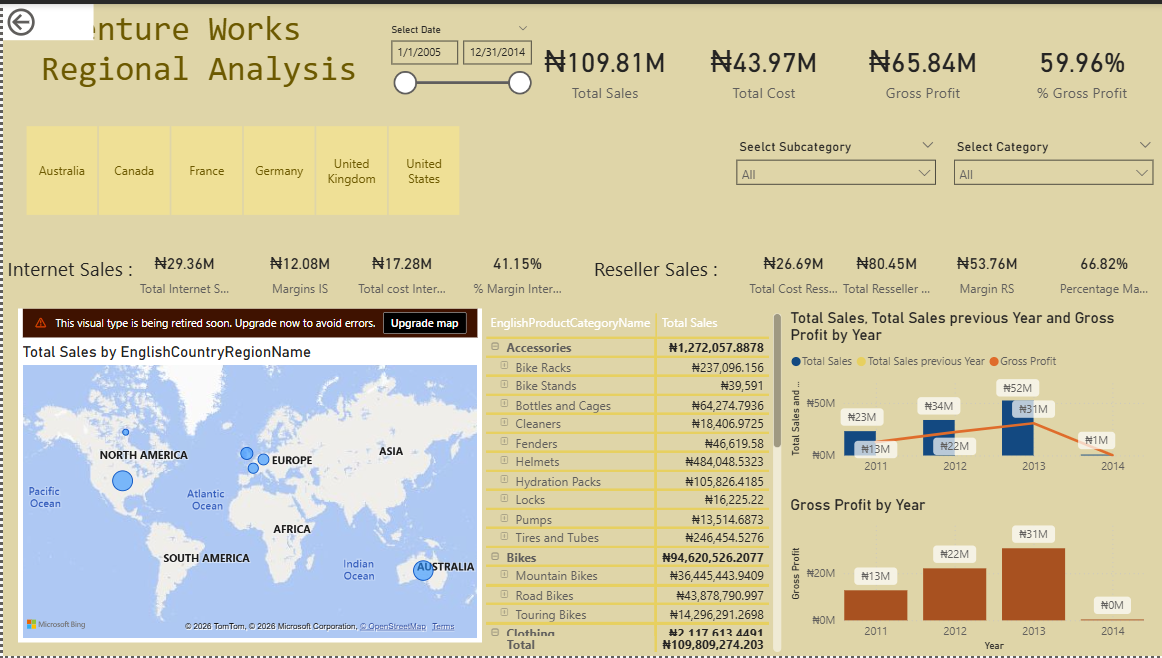

Layout of this report page (visuals, bound fields, positions):
{"tool":"powerbi","page":{"name":"Regional Analysis ","canvas":[1280,720],"ordinal":0},"visuals":[{"type":"textbox","box":[16,0,448,128],"z":0},{"type":"card","fields":{"Values":["All Measures.Total Sales"]},"box":[576,16,176,112],"z":1000},{"type":"card","fields":{"Values":["All Measures.Total Cost"]},"box":[752,16,176,112],"z":2000},{"type":"card","fields":{"Values":["All Measures.Gross Profit"]},"box":[928,16,176,112],"z":3000},{"type":"card","fields":{"Values":["All Measures.% Gross Profit"]},"box":[1104,16,176,112],"z":4000},{"type":"slicer","fields":{"Values":["DimDate.FullDateAlternateKey"]},"box":[416,16,176,112],"z":5000},{"type":"slicer","fields":{"Values":["DimGeography.EnglishCountryRegionName"]},"box":[0,128,528,112],"z":6000},{"type":"actionButton","box":[0,0,100,40],"z":7000},{"type":"slicer","fields":{"Values":["DimProductSubcategory.EnglishProductSubcategoryName"]},"box":[800,144,240,64],"z":8000},{"type":"slicer","fields":{"Values":["DimProductCategory.EnglishProductCategoryName"]},"box":[1040,144,240,64],"z":9000},{"type":"textbox","box":[0,272,160,48],"z":10000},{"type":"card","fields":{"Values":["All Measures.Total Internet Sales Current Year"]},"box":[144,240,112,112],"z":11000},{"type":"card","fields":{"Values":["All Measures.Margins IS"]},"box":[272,240,112,112],"z":12000},{"type":"card","fields":{"Values":["All Measures.Total cost Internet Sales"]},"box":[384,240,112,112],"z":13000},{"type":"card","fields":{"Values":["All Measures.% Margin Internet Sales"]},"box":[512,240,112,112],"z":14000},{"type":"textbox","box":[647.1,271.8,160,48],"z":15000},{"type":"card","fields":{"Values":["All Measures.Total Cost Resseller"]},"box":[816,240,112,112],"z":16000},{"type":"card","fields":{"Values":["All Measures.Total Resseller Current Year"]},"box":[919.1,239.8,112,112],"z":17000},{"type":"card","fields":{"Values":["All Measures.Margin RS"]},"box":[1031.1,239.8,112,112],"z":18000},{"type":"card","fields":{"Values":["All Measures.Percentage Margin RS"]},"box":[1159.1,239.8,112,112],"z":19000},{"type":"map","fields":{"Category":["DimGeography.EnglishCountryRegionName","DimGeography.StateProvinceName"],"Size":["All Measures.Total Sales"]},"box":[16,336,512,368],"z":20000},{"type":"pivotTable","fields":{"Rows":["DimProductCategory.EnglishProductCategoryName","DimProductSubcategory.EnglishProductSubcategoryName","DimProduct.EnglishProductName"],"Values":["All Measures.Total Sales"]},"box":[528,336,336,384],"z":21000},{"type":"lineClusteredColumnComboChart","fields":{"Y":["All Measures.Total Sales","All Measures.Total Sales previous Year"],"Category":["DimDate.FullDateAlternateKey.Variation.Date Hierarchy.Year","DimDate.FullDateAlternateKey.Variation.Date Hierarchy.Quarter"],"Y2":["All Measures.Gross Profit"]},"box":[864,336,400,192],"z":22000},{"type":"lineClusteredColumnComboChart","fields":{"Y":["All Measures.Gross Profit"],"Category":["DimDate.FullDateAlternateKey.Variation.Date Hierarchy.Year","DimDate.FullDateAlternateKey.Variation.Date Hierarchy.Quarter","DimDate.FullDateAlternateKey.Variation.Date Hierarchy.Month","DimDate.FullDateAlternateKey.Variation.Date Hierarchy.Day"]},"box":[864,544,400,176],"z":23000}]}

Visuals, with their boxes on the page's 1280x720 design canvas (x1, y1, x2, y2). These are canvas units, not pixel positions in the 1162x658 screenshot, which may show the page scaled, cropped or inside an application window:
textbox: rect(16, 0, 464, 128)
card - All Measures.Total Sales: rect(576, 16, 752, 128)
card - All Measures.Total Cost: rect(752, 16, 928, 128)
card - All Measures.Gross Profit: rect(928, 16, 1104, 128)
card - All Measures.% Gross Profit: rect(1104, 16, 1280, 128)
slicer - DimDate.FullDateAlternateKey: rect(416, 16, 592, 128)
slicer - DimGeography.EnglishCountryRegionName: rect(0, 128, 528, 240)
actionButton: rect(0, 0, 100, 40)
slicer - DimProductSubcategory.EnglishProductSubcategoryName: rect(800, 144, 1040, 208)
slicer - DimProductCategory.EnglishProductCategoryName: rect(1040, 144, 1280, 208)
textbox: rect(0, 272, 160, 320)
card - All Measures.Total Internet Sales Current Year: rect(144, 240, 256, 352)
card - All Measures.Margins IS: rect(272, 240, 384, 352)
card - All Measures.Total cost Internet Sales: rect(384, 240, 496, 352)
card - All Measures.% Margin Internet Sales: rect(512, 240, 624, 352)
textbox: rect(647, 272, 807, 320)
card - All Measures.Total Cost Resseller: rect(816, 240, 928, 352)
card - All Measures.Total Resseller Current Year: rect(919, 240, 1031, 352)
card - All Measures.Margin RS: rect(1031, 240, 1143, 352)
card - All Measures.Percentage Margin RS: rect(1159, 240, 1271, 352)
map - DimGeography.EnglishCountryRegionName x DimGeography.StateProvinceName: rect(16, 336, 528, 704)
pivotTable - DimProductCategory.EnglishProductCategoryName x DimProductSubcategory.EnglishProductSubcategoryName: rect(528, 336, 864, 720)
lineClusteredColumnComboChart - All Measures.Total Sales x All Measures.Total Sales previous Year: rect(864, 336, 1264, 528)
lineClusteredColumnComboChart - All Measures.Gross Profit x DimDate.FullDateAlternateKey.Variation.Date Hierarchy.Year: rect(864, 544, 1264, 720)
